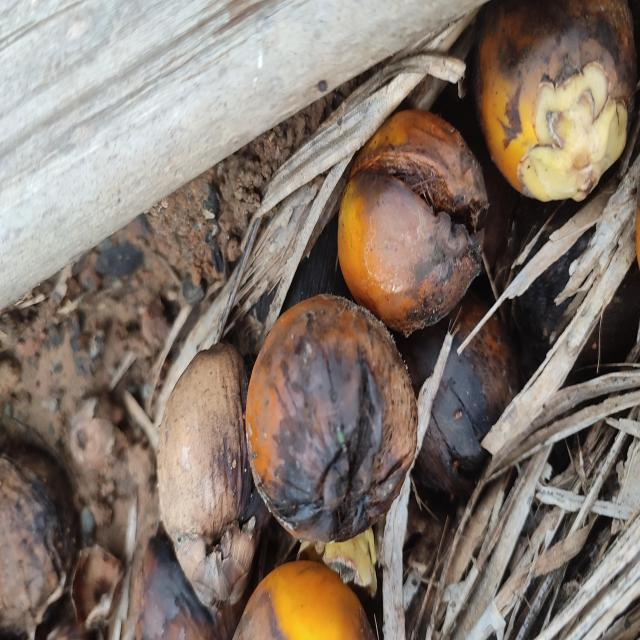damaged: (336, 109, 535, 364), (243, 294, 419, 548), (459, 0, 640, 207), (158, 346, 259, 610)
